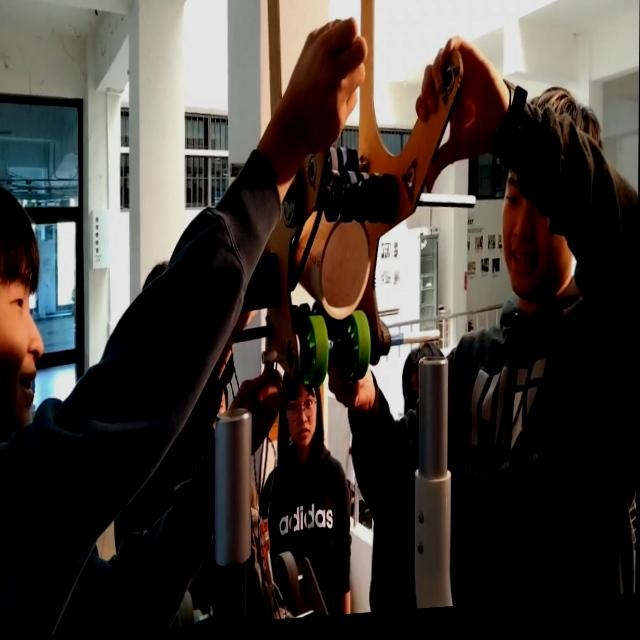CORAL: (301, 197, 372, 322)
